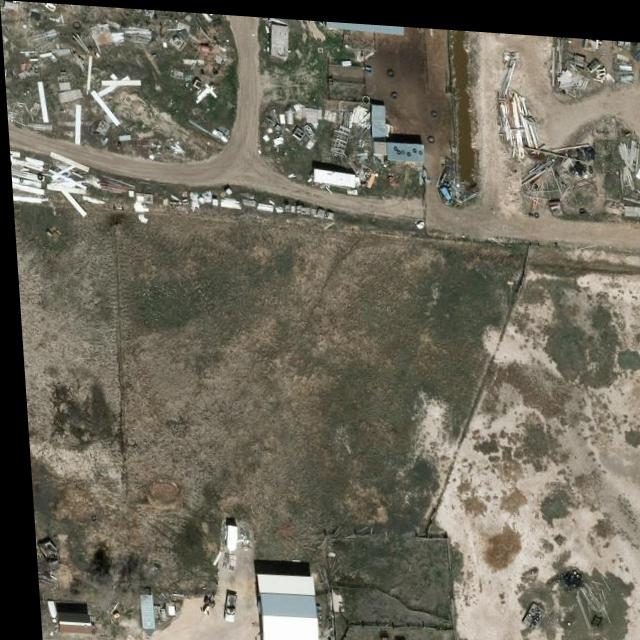vehicle: (213, 591, 234, 621)
